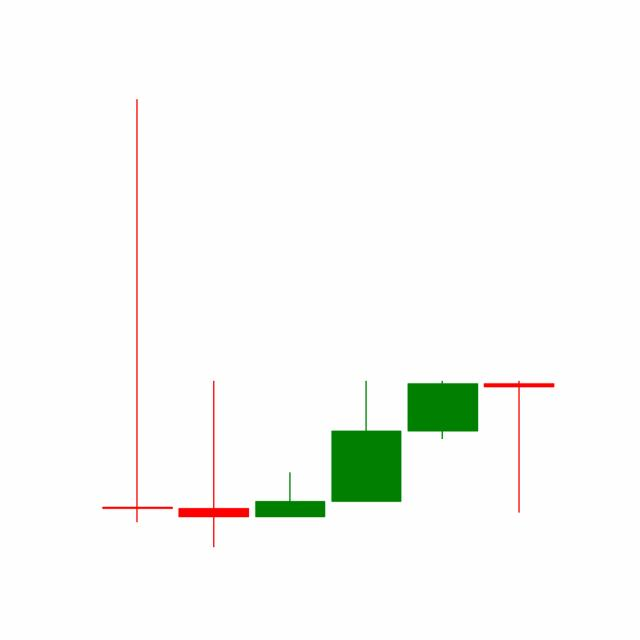Marubozu: (403, 379, 481, 440)
